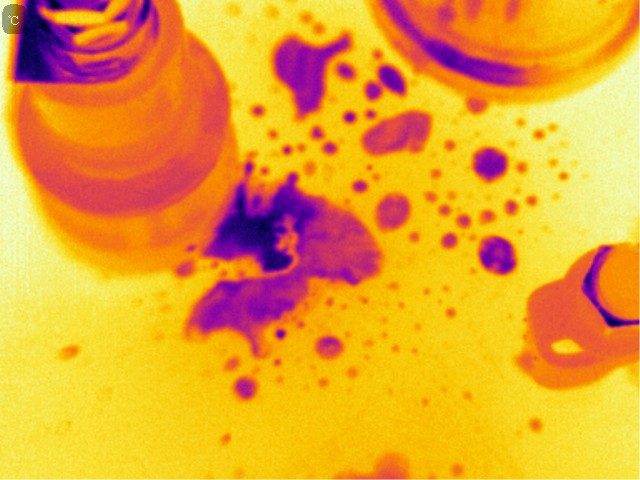Water: (182, 160, 387, 359), (268, 33, 354, 125), (322, 448, 467, 480), (360, 108, 433, 156), (436, 234, 521, 274), (364, 64, 409, 107), (375, 192, 409, 235), (225, 374, 264, 409), (164, 249, 206, 280), (476, 147, 508, 179), (295, 8, 330, 37), (312, 334, 345, 361), (54, 339, 89, 364), (555, 169, 585, 191), (461, 96, 495, 114), (315, 139, 345, 158), (455, 206, 474, 233), (478, 206, 500, 228), (499, 197, 522, 218), (543, 149, 567, 167), (514, 157, 537, 175), (528, 193, 545, 214), (305, 121, 325, 138), (443, 304, 460, 323), (278, 144, 299, 156), (426, 187, 439, 206), (350, 179, 367, 193), (437, 199, 451, 216), (215, 431, 229, 447), (530, 418, 541, 434), (250, 105, 267, 115), (533, 127, 546, 140), (267, 131, 280, 143)
